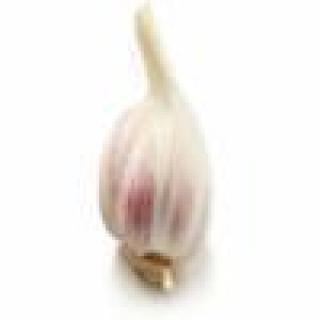Bawang Putih: (49, 14, 270, 295)
